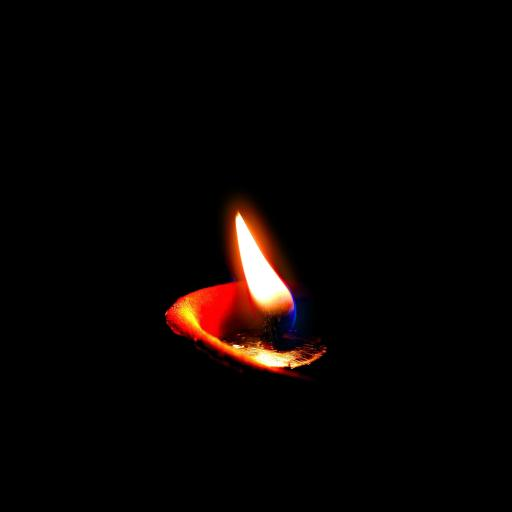fire: (222, 198, 308, 317)
